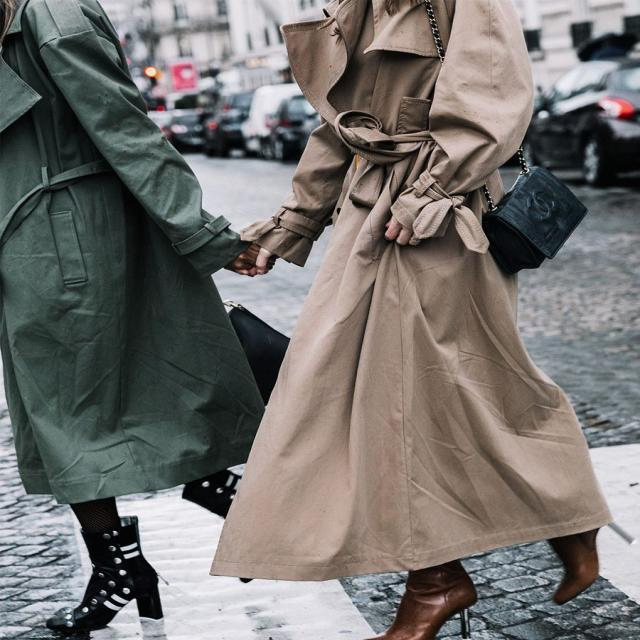coat: (208, 0, 615, 583), (0, 0, 275, 508)
